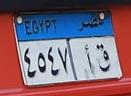4: (23, 48, 35, 78), (47, 46, 57, 76)
5: (37, 52, 46, 72)
7: (58, 47, 69, 72)
alif: (84, 44, 92, 70)
qaaf: (95, 43, 111, 72)
